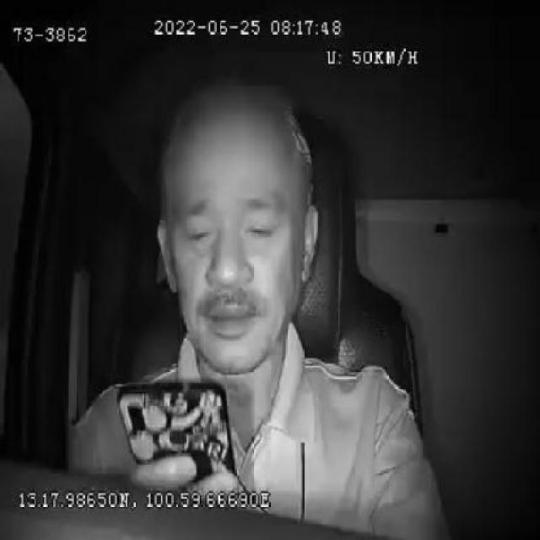phone: (116, 380, 236, 476)
